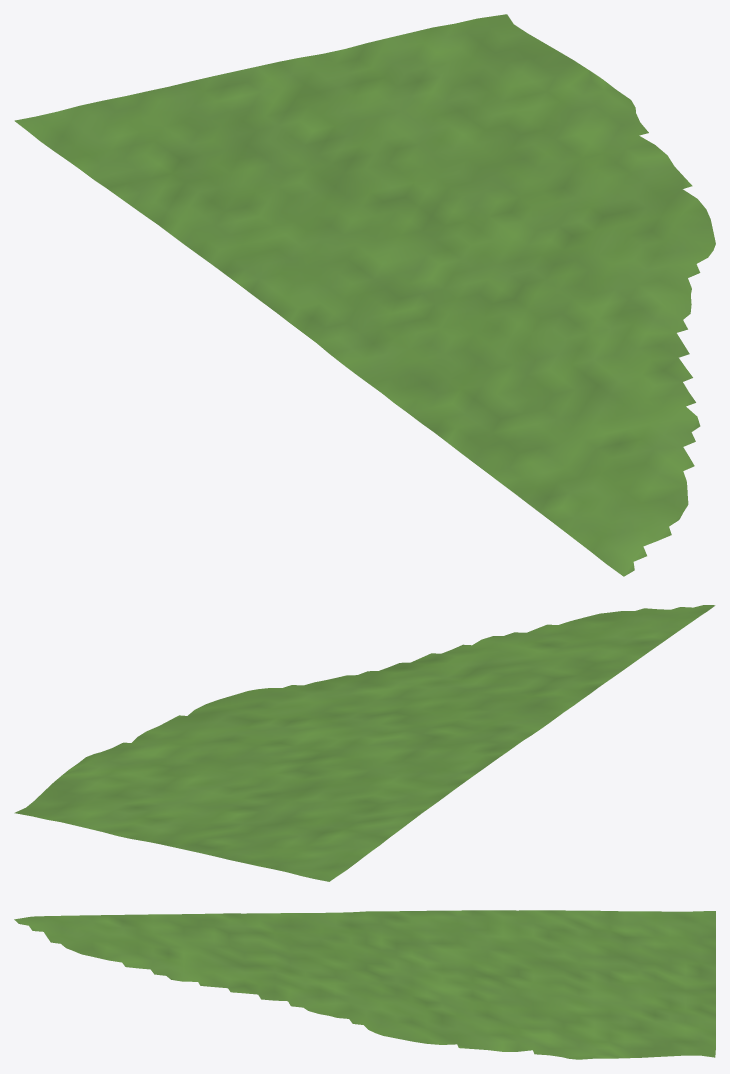
Rendered from lareunion-terrain-15.glb.
3 renders of one model, top to bottom at view 1: azimuth 30°, elevation 25°; view 2: azimuth 150°, elevation 25°; view 3: azimuth 270°, elevation 25°, orthographic. The views are drawn at different scales.
Visible parts, largest first — view 1: LaReunionRgeAltiTerrain_15; view 2: LaReunionRgeAltiTerrain_15; view 3: LaReunionRgeAltiTerrain_15.
Boxes of the visible parts, x1=… form: LaReunionRgeAltiTerrain_15: x1=14, y1=14, x2=715, y2=576; LaReunionRgeAltiTerrain_15: x1=14, y1=605, x2=715, y2=881; LaReunionRgeAltiTerrain_15: x1=14, y1=910, x2=715, y2=1059.
Bounding box in the file's own units: 7.78 × 0.2421 × 16.4.
